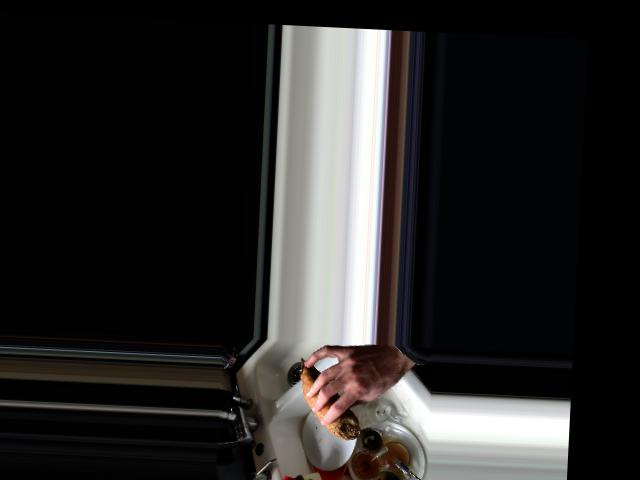sweet_potato: (297, 357, 362, 437)
